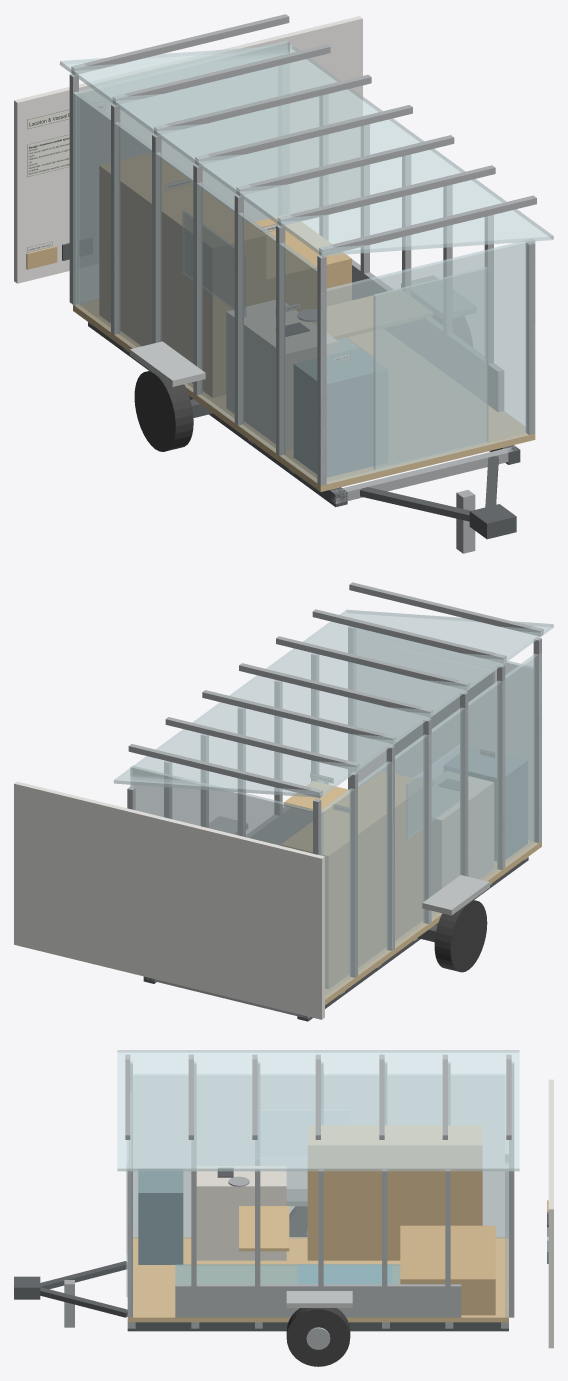
The model's file is lacaton-vassal-economy-trailer.glb.
3 views of the same model, one above another, from view 1: azimuth 30°, elevation 25°; view 2: azimuth 150°, elevation 25°; view 3: azimuth 270°, elevation 25° (orthographic). The views are drawn at different scales.
Visible parts, largest first — view 1: left translucent polycarbonate wall, one large shed polycarbonate roof, front polycarbonate wall, rear polycarbonate wall, Lacaton & Vassal Economy Trailer label board backing, wide sliding polycarbonate door panel, open shelf wall from unfinished plywood, exposed utility corner, minimal kitchenette block, 6x12 plywood trailer deck.003, daybed platform also storage, left trailer wheel.002 (+30 smaller); view 2: Lacaton & Vassal Economy Trailer label board backing, left translucent polycarbonate wall, one large shed polycarbonate roof, open shelf wall from unfinished plywood, front polycarbonate wall, rear polycarbonate wall, minimal kitchenette block, exposed utility corner, left trailer wheel.002, large stock ventilation window, 6x12 plywood trailer deck.003, cheap galvanized portal frame 24 (+22 smaller); view 3: one large shed polycarbonate roof, left translucent polycarbonate wall, open shelf wall from unfinished plywood, 6x12 plywood trailer deck.003, cutaway open long-side guard rail, daybed platform also storage, minimal kitchenette block, exposed utility corner, central movement path - keep clear.003, large stock ventilation window, right steel frame rail.002, right trailer wheel.002 (+27 smaller).
Boxes of the visible parts, x1,y1,x2,y2 form: left translucent polycarbonate wall: (73,92,322,484); one large shed polycarbonate roof: (59,45,553,256); front polycarbonate wall: (320,239,535,484); rear polycarbonate wall: (73,40,289,305); Lacaton & Vassal Economy Trailer label board backing: (14,16,362,283); wide sliding polycarbonate door panel: (373,267,488,470); open shelf wall from unfinished plywood: (99,153,265,397); exposed utility corner: (294,348,373,477); minimal kitchenette block: (226,300,338,450); 6x12 plywood trailer deck.003: (73,299,535,491); daybed platform also storage: (250,214,351,311); left trailer wheel.002: (134,370,193,451); Lacaton & Vassal Economy Trailer label board backing: (14,781,324,1019); left translucent polycarbonate wall: (321,653,541,999); one large shed polycarbonate roof: (113,609,553,797); open shelf wall from unfinished plywood: (281,771,422,988); front polycarbonate wall: (349,626,541,840); rear polycarbonate wall: (130,765,323,855); minimal kitchenette block: (432,776,493,895); exposed utility corner: (468,746,527,860); left trailer wheel.002: (434,900,487,972); large stock ventilation window: (406,745,459,838); 6x12 plywood trailer deck.003: (325,838,541,1005); cheap galvanized portal frame 24: (497,664,505,869); one large shed polycarbonate roof: (117,1050,519,1171); left translucent polycarbonate wall: (133,1074,508,1238); open shelf wall from unfinished plywood: (307,1125,482,1260); 6x12 plywood trailer deck.003: (127,1237,508,1322); cutaway open long-side guard rail: (175,1284,461,1317); daybed platform also storage: (400,1225,495,1315); minimal kitchenette block: (196,1166,286,1260); exposed utility corner: (138,1168,183,1264); central movement path - keep clear.003: (175,1264,400,1284); large stock ventilation window: (255,1110,349,1157); right steel frame rail.002: (127,1322,508,1331); right trailer wheel.002: (286,1308,350,1366).
Size of the model in its own units: 3.07 by 2.46 by 5.18.
Materials: 22 (9 with a texture image).
